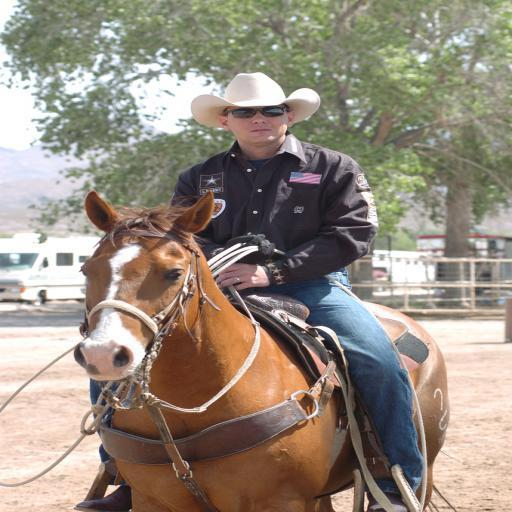horse: (74, 190, 448, 512)
